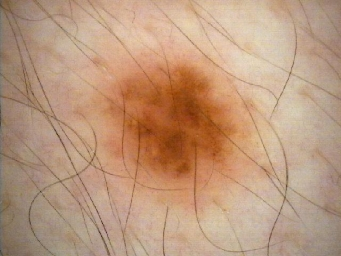melanoma: (100, 62, 236, 181)
